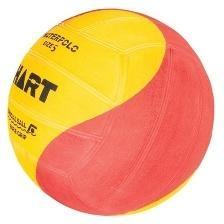Sports-Ball: (7, 8, 215, 217)
